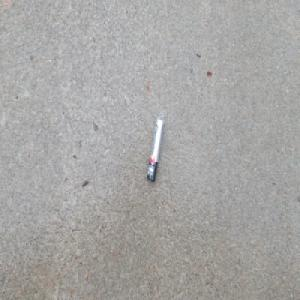Battery: (146, 117, 163, 184)
